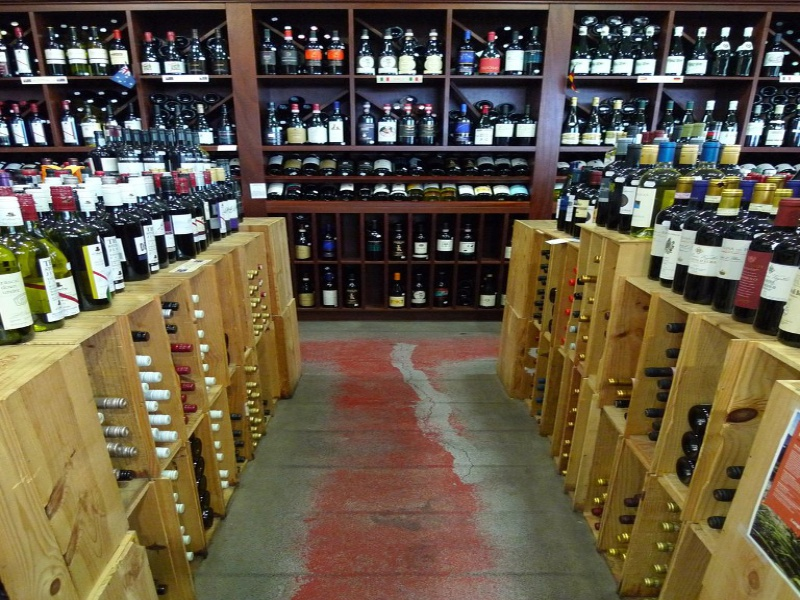wine: (497, 117, 800, 596), (1, 126, 247, 346), (256, 13, 540, 202), (565, 7, 798, 158), (2, 14, 240, 148)
